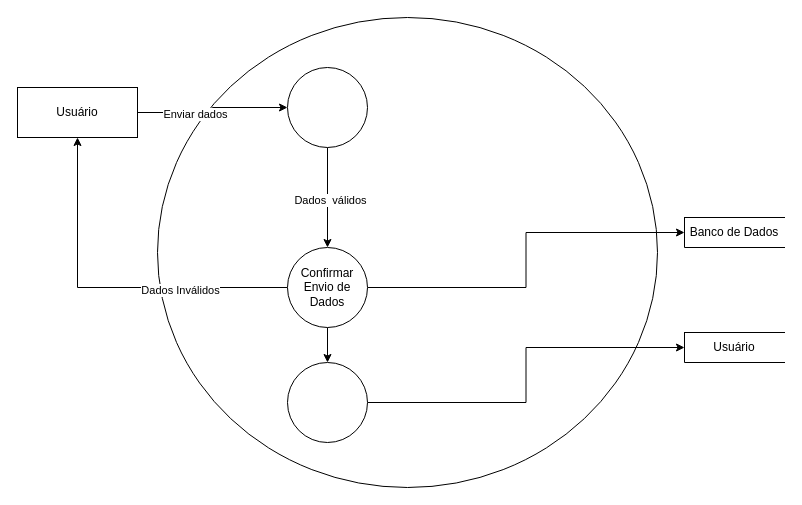
Image size: 802x505. Some labels were removed from this diagram. Here are the shapes that lost their labels. From the top down, the centre of each, then its label:
At (x=327, y=107): "Validação de Dados".
At (x=327, y=402): "Usuário Cadastrado".
